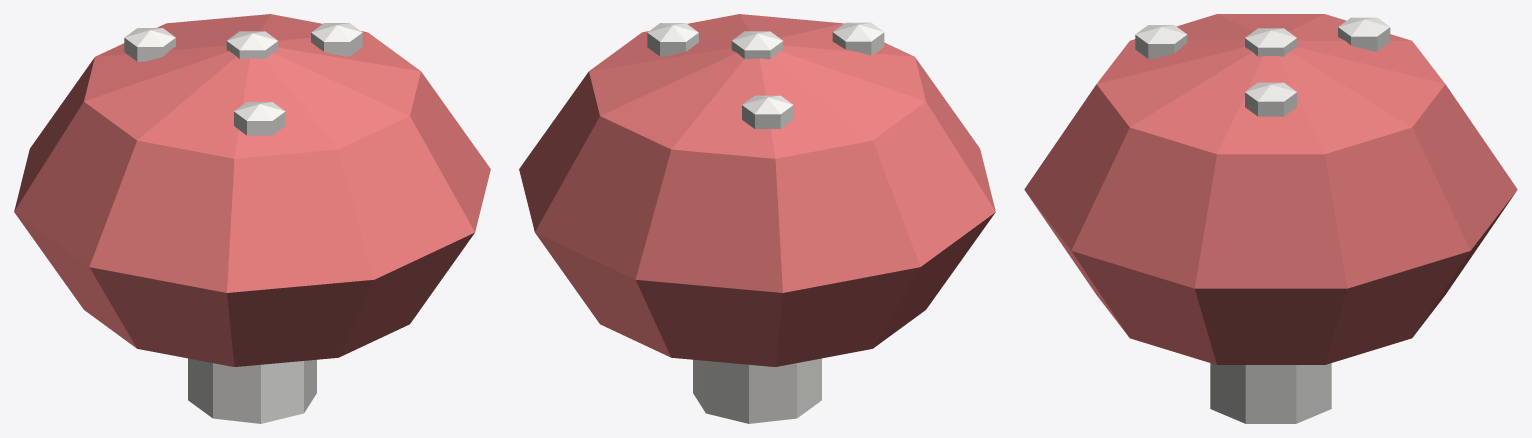
The model's file is mushroom_red.glb.
3 views of the same model, side by side, from view 1: azimuth 30°, elevation 25°; view 2: azimuth 150°, elevation 25°; view 3: azimuth 270°, elevation 25° (orthographic).
Visible parts, largest first — view 1: Player; view 2: Player; view 3: Player.
Boxes of the visible parts, <box> form: Player: <box>14,14,490,423</box>; Player: <box>519,14,995,423</box>; Player: <box>1024,14,1517,423</box>.
Size of the model in its own units: 0.856 by 0.74 by 0.9.
